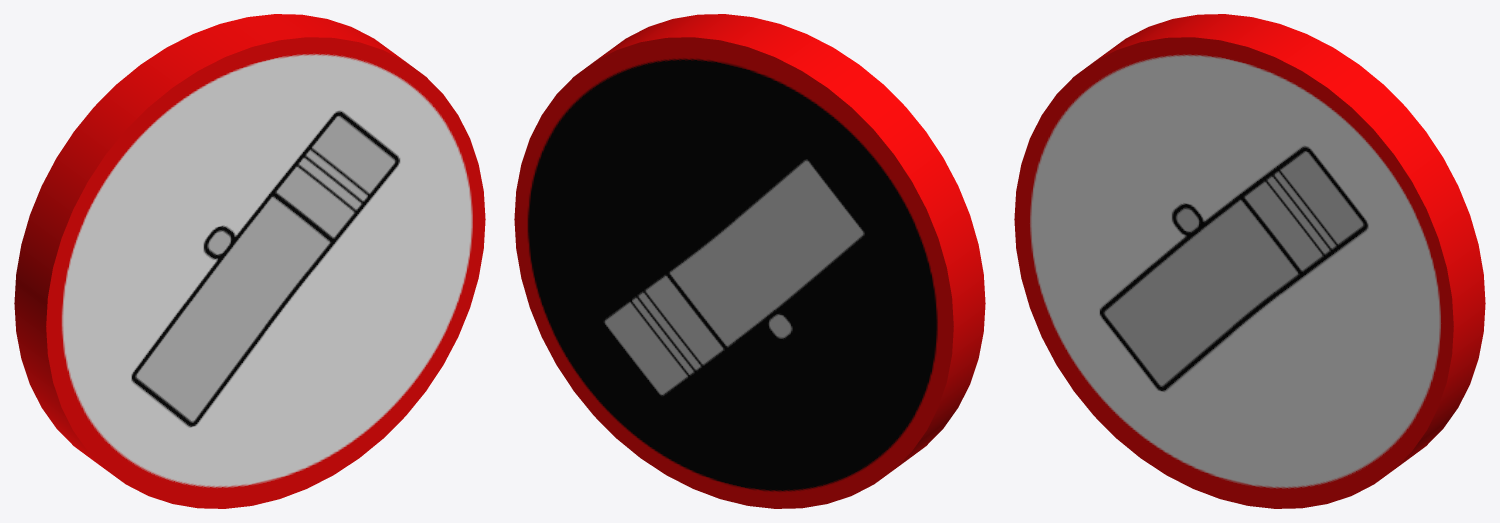
The model's file is IconLaser.fbx.
3 renders of one model, left to right at view 1: azimuth 30°, elevation 25°; view 2: azimuth 150°, elevation 25°; view 3: azimuth 330°, elevation 25°, orthographic.
Parts seen in each view (by area): view 1: pCylinder1; view 2: pCylinder1; view 3: pCylinder1.
Part boxes in pixels (x1,y1,x2,y2): pCylinder1: [14, 14, 485, 508]; pCylinder1: [514, 14, 985, 508]; pCylinder1: [1014, 14, 1485, 508].
Bounding box in the file's own units: 4 × 3.99 × 0.5.
Materials: 1 (1 with a texture image).
